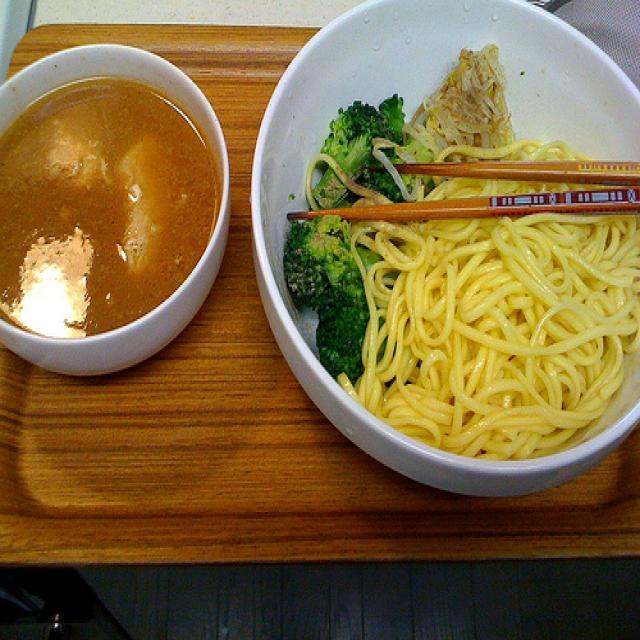面条主食: (0, 70, 634, 469)
